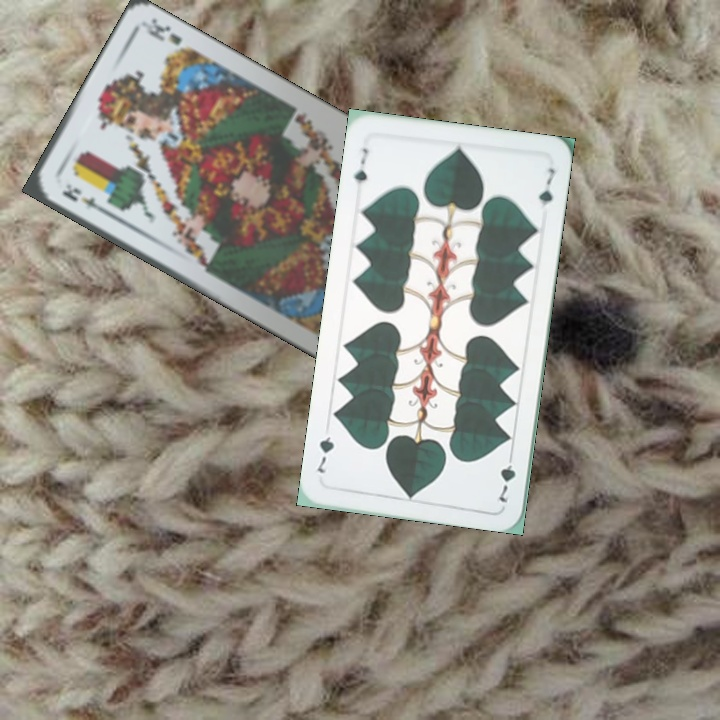EK: (57, 180, 107, 216)
G7: (495, 447, 518, 505), (350, 143, 371, 187)
